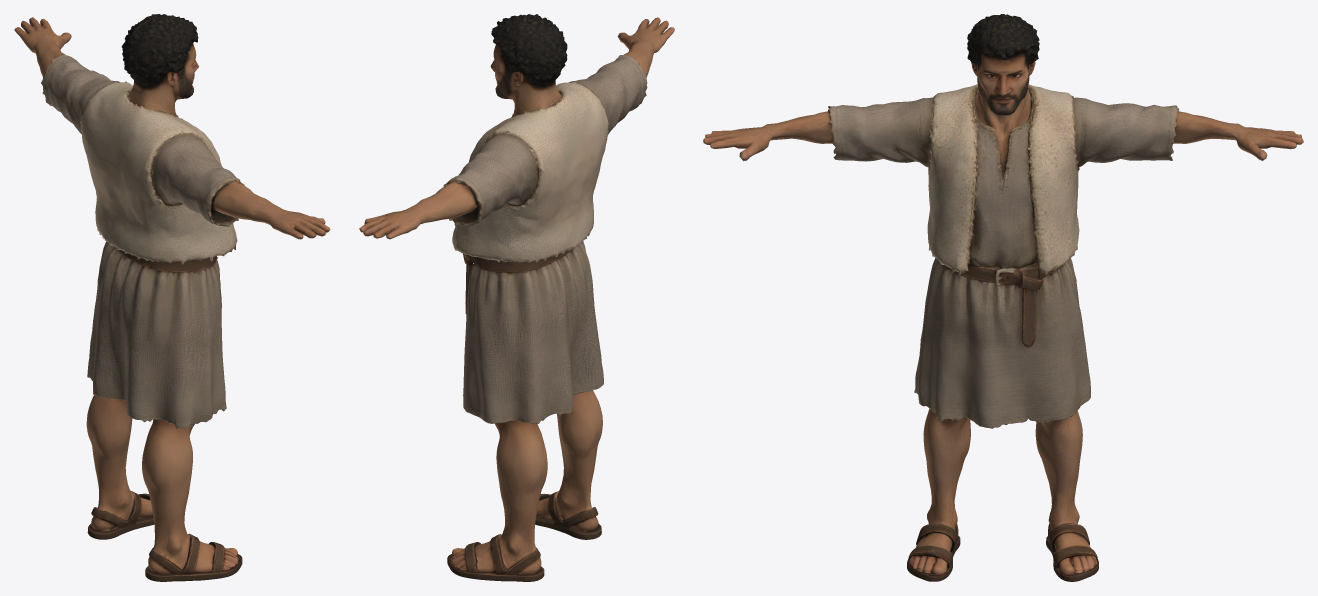
The picture shows the model from 3 angles, left to right: view 1: azimuth 30°, elevation 25°; view 2: azimuth 150°, elevation 25°; view 3: azimuth 270°, elevation 25°; orthographic projection. The views are drawn at different scales.
Visible parts, largest first — view 1: tripo_node_cc071280-66ba-4721-b4af-23880135cc29; view 2: tripo_node_cc071280-66ba-4721-b4af-23880135cc29; view 3: tripo_node_cc071280-66ba-4721-b4af-23880135cc29.
Boxes of the visible parts, x1,y1,x2,y2 form: tripo_node_cc071280-66ba-4721-b4af-23880135cc29: (14, 14, 330, 581); tripo_node_cc071280-66ba-4721-b4af-23880135cc29: (359, 14, 674, 581); tripo_node_cc071280-66ba-4721-b4af-23880135cc29: (703, 14, 1303, 581).
Bounding box in the file's own units: 0.215 × 0.9965 × 1.
1 material, 1 textured.
